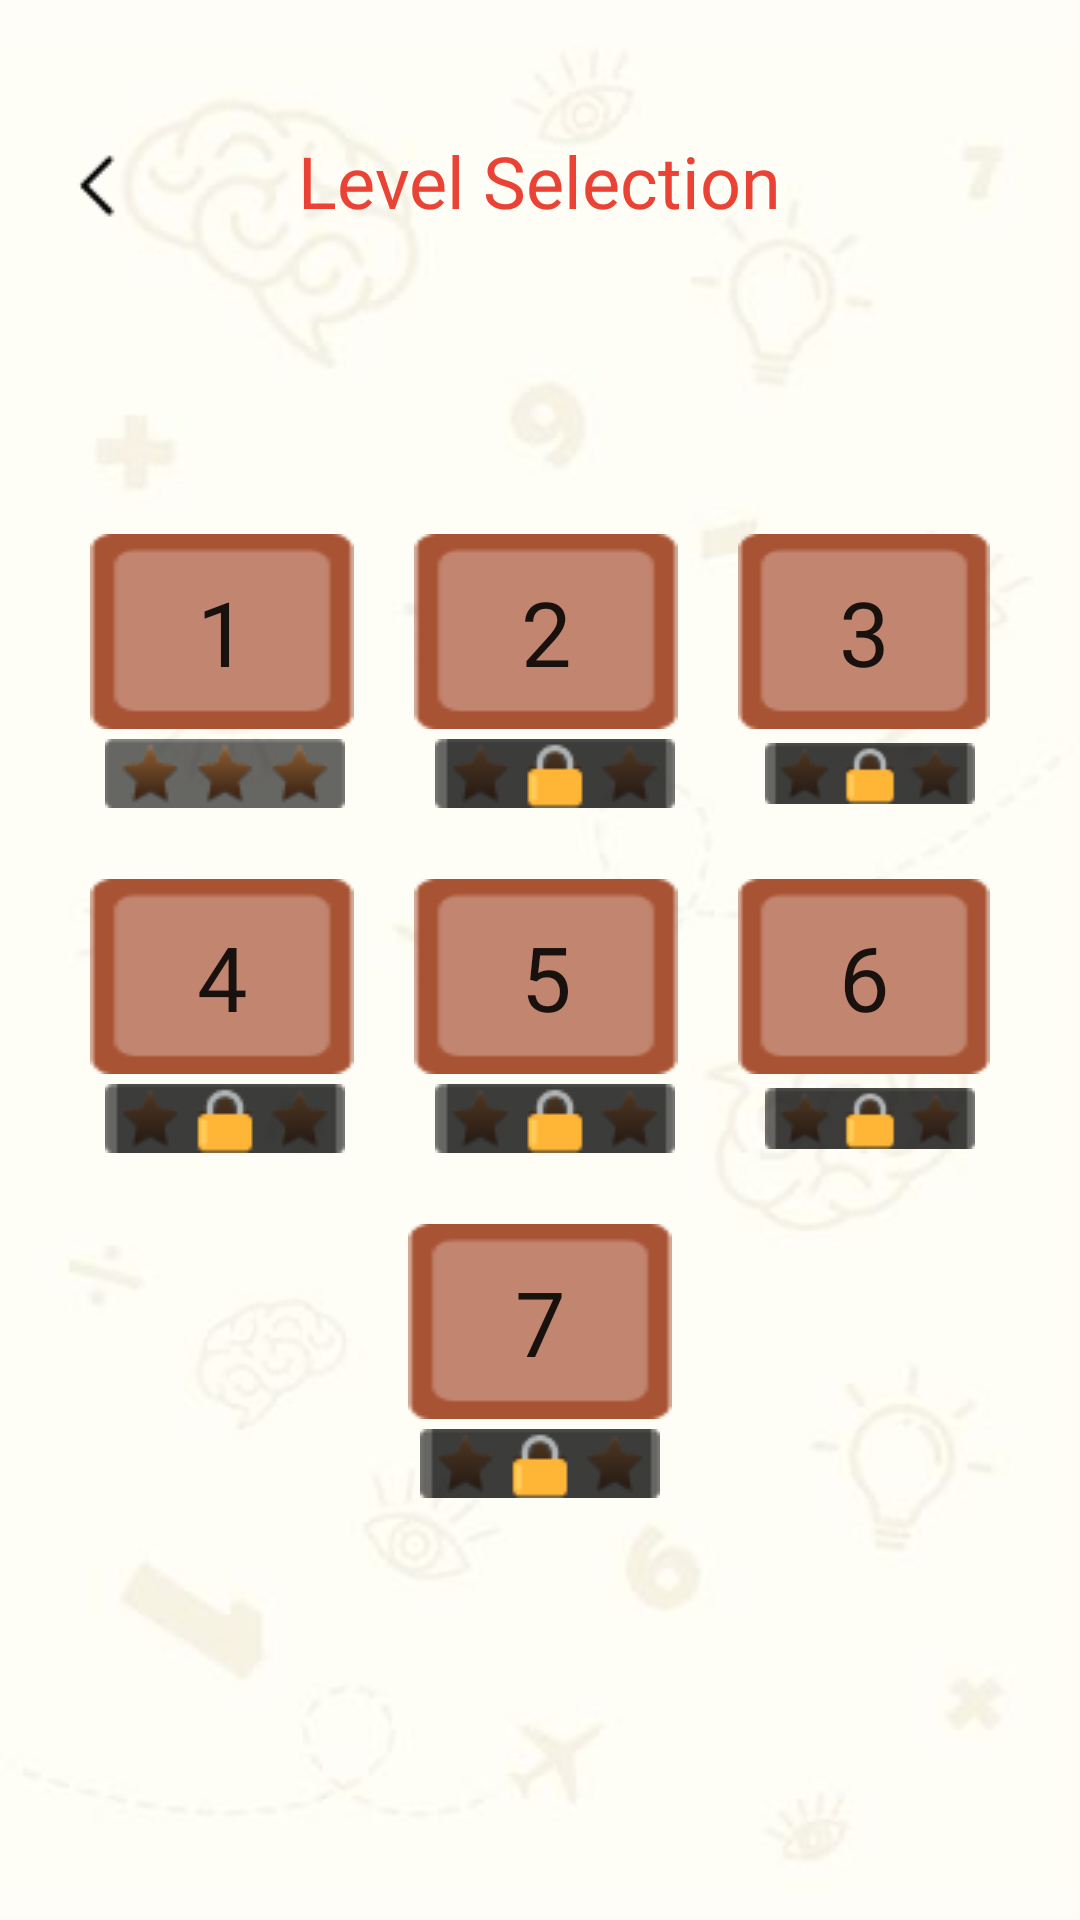

Named icons in this screenshot (1080px×1920px) and their centers, (x,y):
back: (97,186)
stars: (225,773)
stars lock: (555,773), (870,773), (225,1118), (555,1118), (870,1118), (540,1463)
